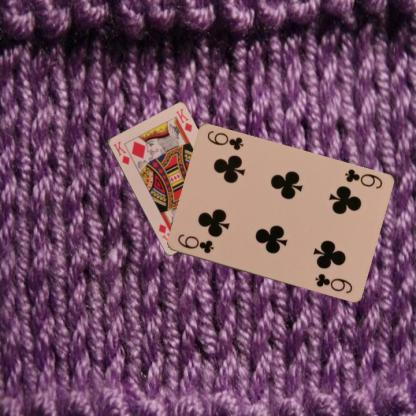6c: (341, 166, 384, 190), (174, 231, 215, 255)
Kd: (110, 138, 131, 166)
